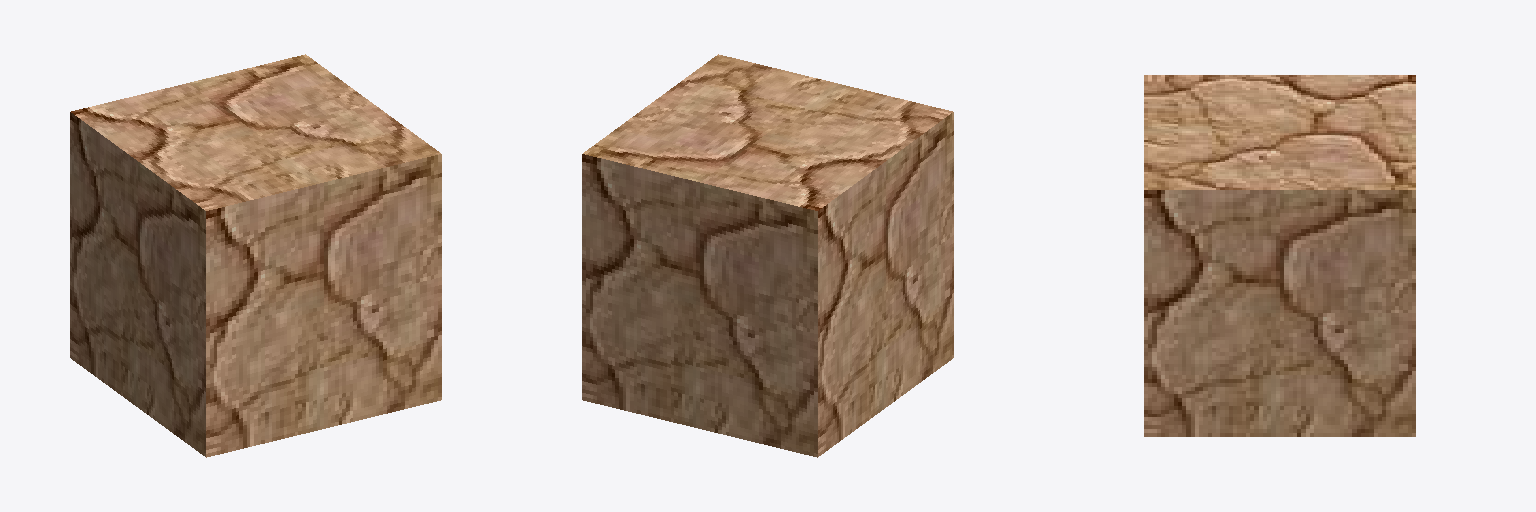
3 renders of one model, left to right at view 1: azimuth 30°, elevation 25°; view 2: azimuth 150°, elevation 25°; view 3: azimuth 270°, elevation 25°, orthographic.
Visible parts, largest first — view 1: Cube; view 2: Cube; view 3: Cube.
Boxes of the visible parts, <box> form: Cube: <box>70,54,441,457</box>; Cube: <box>582,54,953,457</box>; Cube: <box>1144,75,1415,436</box>.
Size of the model in its own units: 2 by 2 by 2.
Materials: 1 (1 with a texture image).